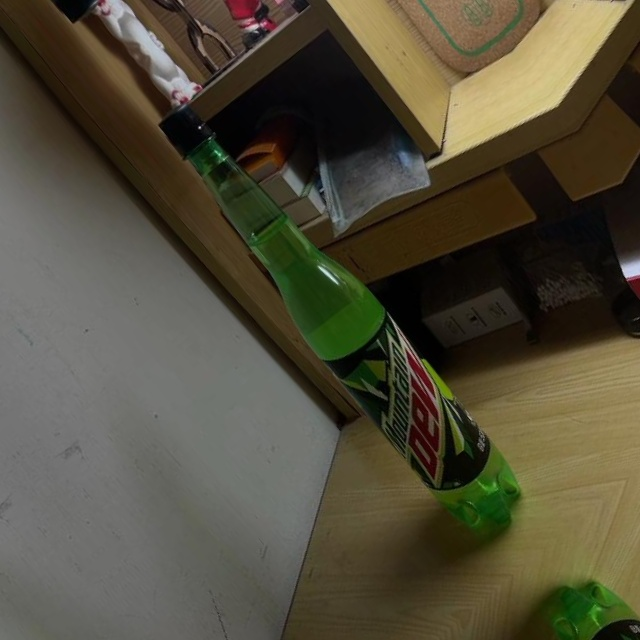Mountain-Dew: (140, 92, 542, 550)
